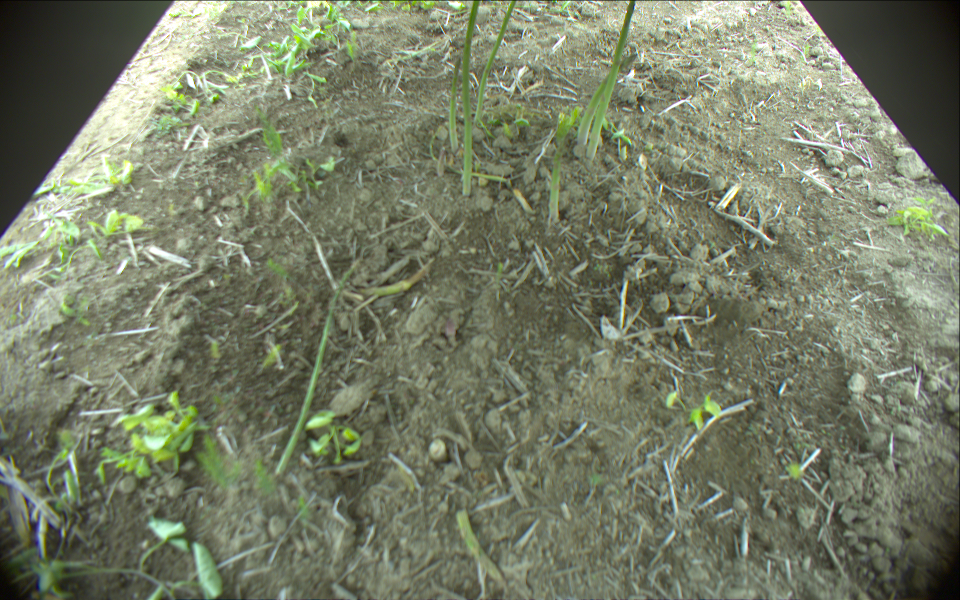aspa: (278, 258, 363, 476), (585, 1, 637, 161), (474, 1, 518, 121), (457, 508, 512, 592), (462, 1, 482, 196), (578, 72, 612, 142), (546, 125, 568, 221), (448, 58, 462, 152)
